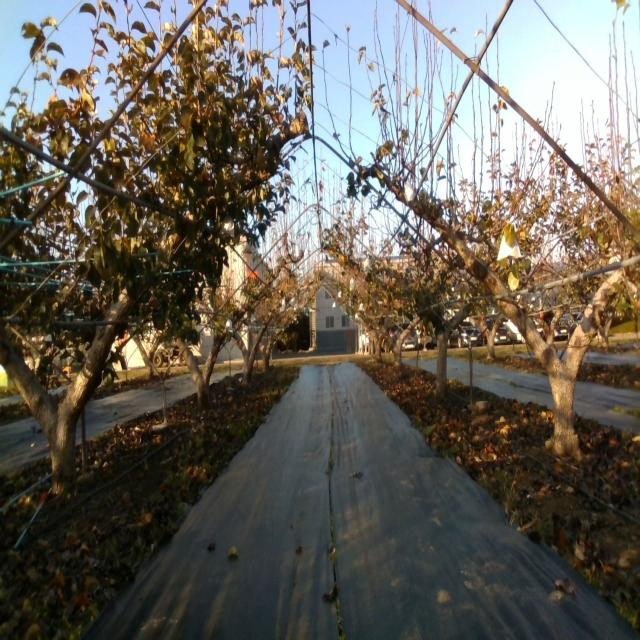pearbags: (497, 234, 521, 263), (220, 213, 236, 239), (404, 183, 415, 208)
